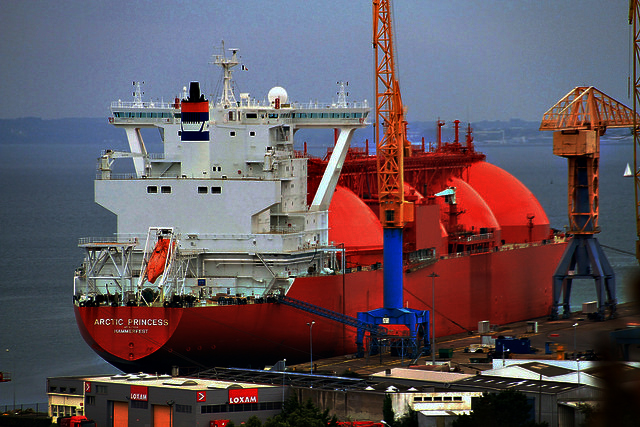LNG_ship: (73, 41, 577, 344)
